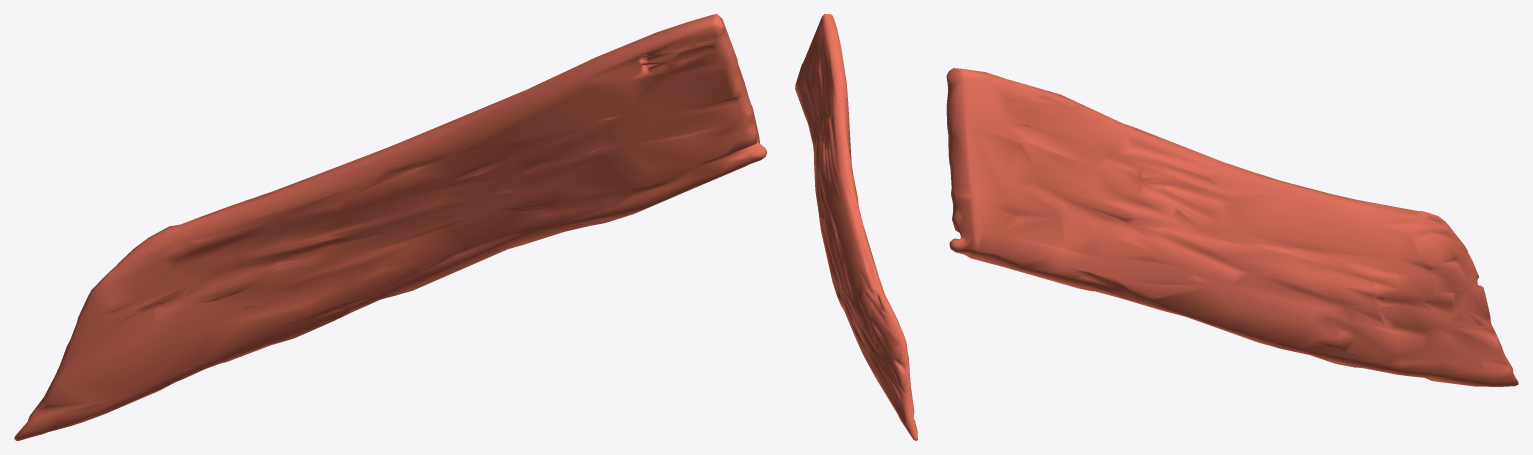
The model's file is teres-major.glb.
3 renders of one model, left to right at view 1: azimuth 30°, elevation 25°; view 2: azimuth 150°, elevation 25°; view 3: azimuth 270°, elevation 25°, orthographic. The views are drawn at different scales.
Visible parts, largest first — view 1: Teres major muscle.l; view 2: Teres major muscle.l; view 3: Teres major muscle.l.
Boxes of the visible parts, x1,y1,x2,y2 form: Teres major muscle.l: [14, 14, 766, 440]; Teres major muscle.l: [795, 14, 917, 440]; Teres major muscle.l: [946, 68, 1518, 386].
Size of the model in its own units: 0.0857 by 0.086 by 0.0827.
